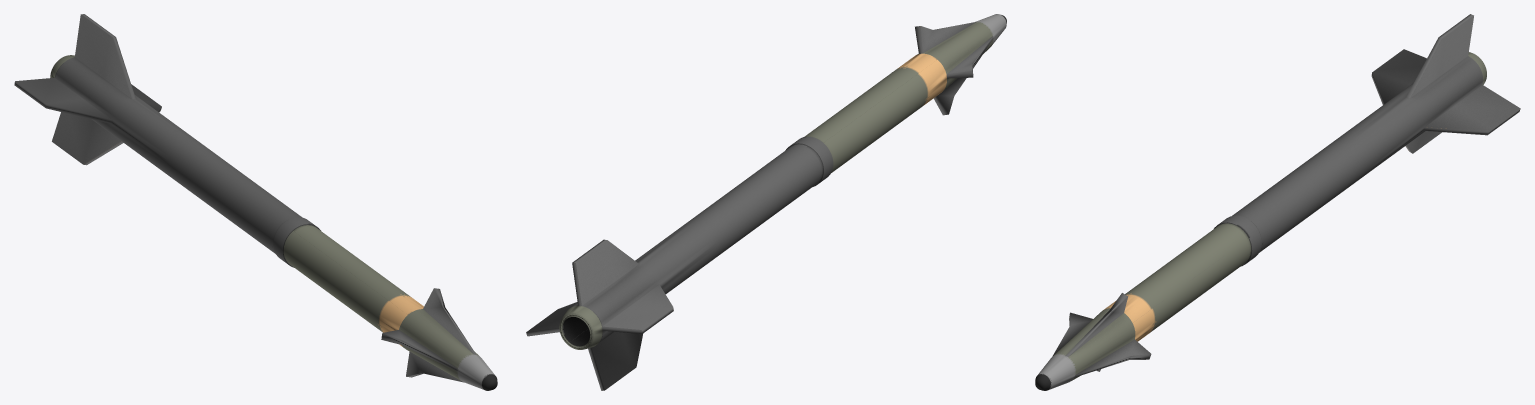
The model's file is missile.glb.
The picture shows the model from 3 angles, left to right: view 1: azimuth 30°, elevation 25°; view 2: azimuth 150°, elevation 25°; view 3: azimuth 330°, elevation 25°; orthographic projection.
Visible parts, largest first — view 1: Missile; view 2: Missile; view 3: Missile.
Boxes of the visible parts, x1,y1,x2,y2 form: Missile: (14,14,497,390); Missile: (526,14,1006,390); Missile: (1035,14,1520,390).
Size of the model in its own units: 0.3425 by 0.3425 by 2.17.
Materials: 6 (6 with a texture image).
